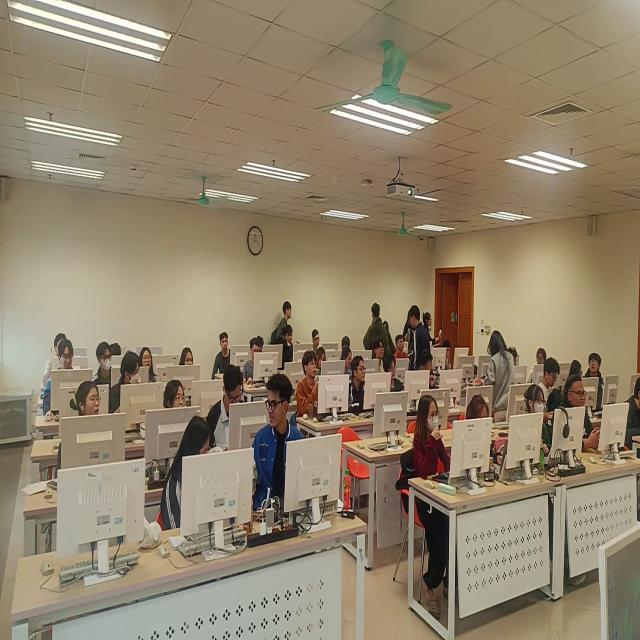raise_head: (58, 385, 113, 481), (414, 397, 461, 505), (561, 378, 613, 461), (525, 386, 556, 463), (160, 381, 191, 448), (298, 353, 326, 422), (213, 334, 245, 380), (350, 357, 371, 418), (586, 354, 609, 409), (141, 350, 159, 388), (393, 335, 410, 367), (181, 348, 196, 384), (374, 340, 386, 378), (310, 331, 323, 357)
stand: (488, 331, 516, 422), (409, 304, 432, 378), (367, 303, 388, 370), (277, 301, 293, 357)
using_computer: (462, 394, 508, 484), (45, 342, 81, 425), (242, 339, 268, 391), (385, 355, 412, 402), (93, 346, 119, 393), (441, 340, 462, 378), (283, 325, 301, 368), (315, 347, 331, 378)
using_phone: (541, 359, 568, 407)
